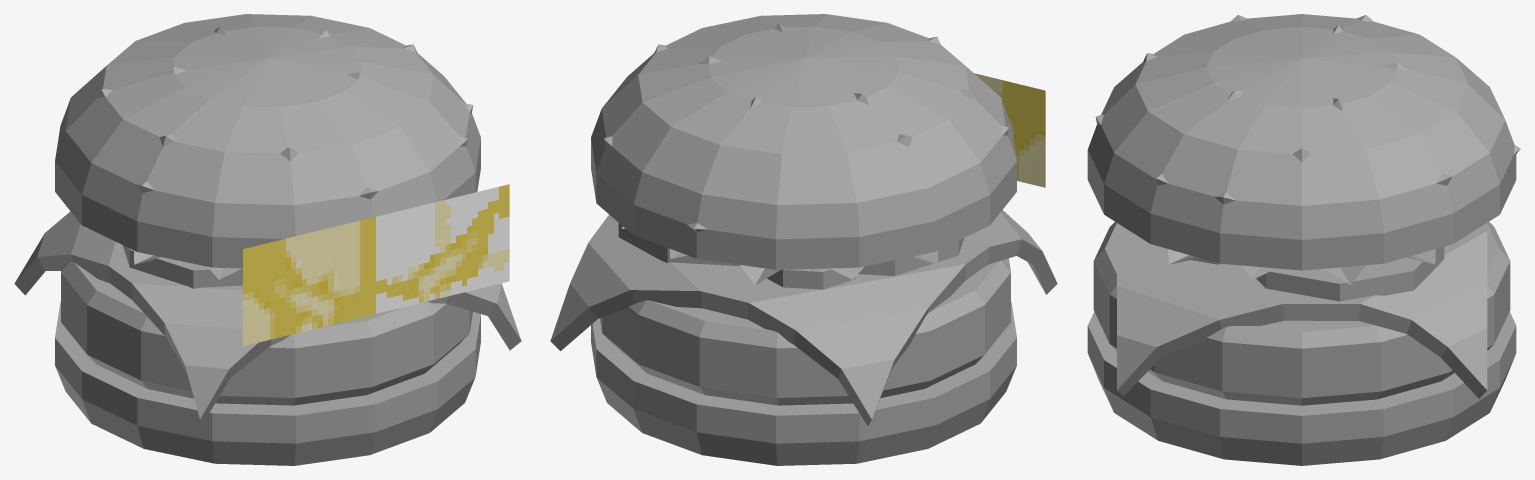
File: borgir.fbx
3 renders of one model, left to right at view 1: azimuth 30°, elevation 25°; view 2: azimuth 150°, elevation 25°; view 3: azimuth 270°, elevation 25°, orthographic.
Parts seen in each view (by area): view 1: body, eyes; view 2: body, eyes; view 3: body.
Boxes of the visible parts, bbox=[...] form: body: bbox=[14, 14, 521, 465]; eyes: bbox=[243, 184, 509, 346]; body: bbox=[550, 14, 1057, 465]; eyes: bbox=[974, 73, 1045, 187]; body: bbox=[1087, 14, 1520, 465].
Bounding box in the file's own units: 7.52 × 6.22 × 7.63.
2 materials, 1 textured.
